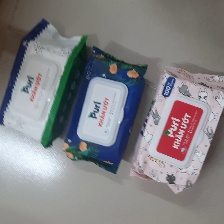Puri Trang: (1, 18, 91, 151)
Puri Xanh: (63, 46, 148, 176)
Puri hong: (130, 61, 224, 196)
